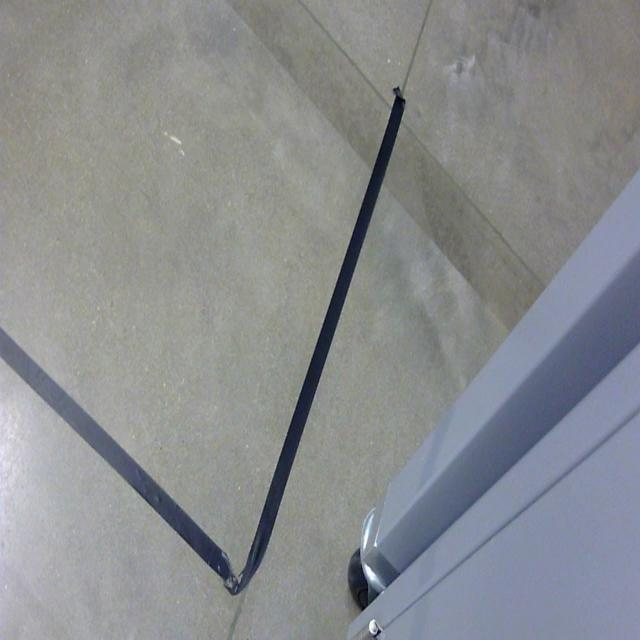tape: (0, 72, 420, 638)
